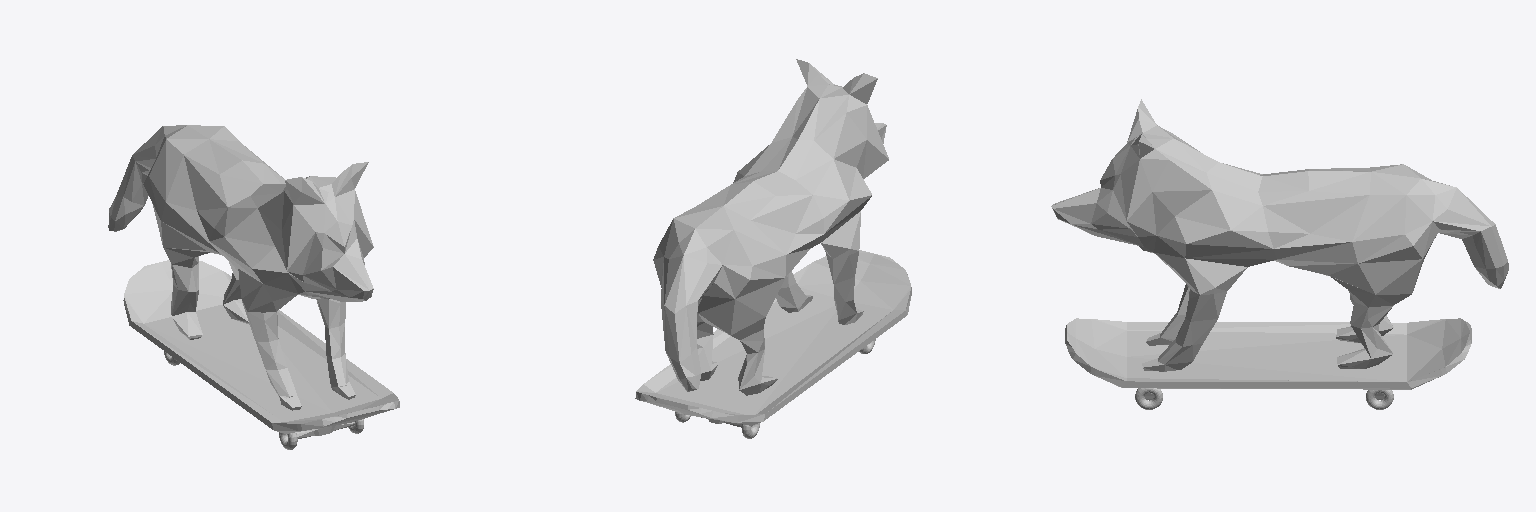
Rendered from Fuchs20.obj.
3 views of the same model, side by side, from view 1: azimuth 30°, elevation 25°; view 2: azimuth 150°, elevation 25°; view 3: azimuth 270°, elevation 25° (orthographic).
Size of the model in its own units: 3.58 by 7.68 by 11.63.